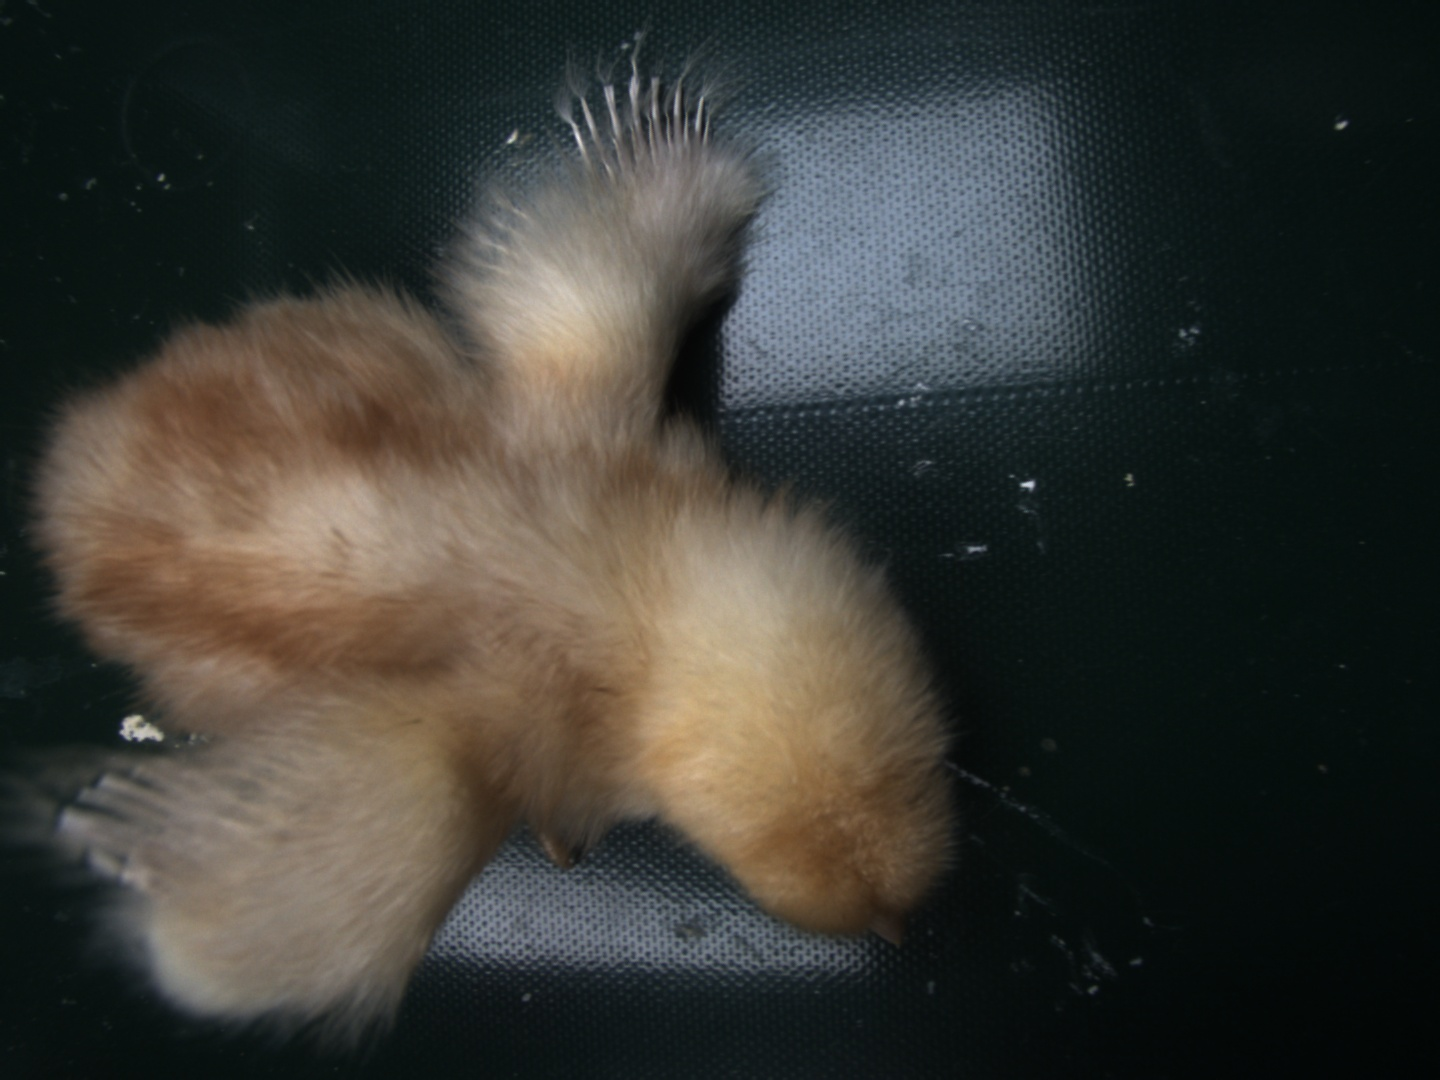female: (559, 71, 714, 183)
